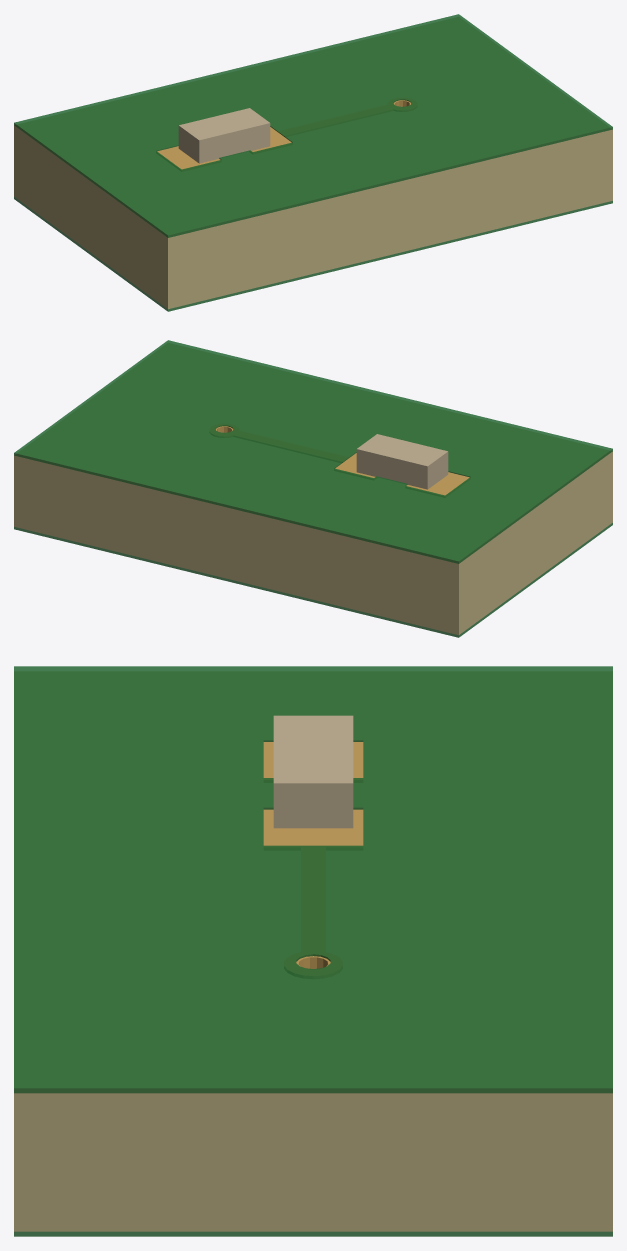
File: user-models.glb
The picture shows the model from 3 angles, top to bottom: view 1: azimuth 30°, elevation 25°; view 2: azimuth 150°, elevation 25°; view 3: azimuth 270°, elevation 25°; orthographic projection. The views are drawn at different scales.
Visible parts, largest first — view 1: layer/@soldermask-top, layer/@core, r0603, layer/@soldermask-bottom, layer/TOP; view 2: layer/@soldermask-top, layer/@core, r0603, layer/@soldermask-bottom, layer/TOP; view 3: layer/@soldermask-top, layer/@core, r0603, layer/TOP, layer/@soldermask-bottom.
Part boxes in pixels (x1,y1,x2,y2): layer/@soldermask-top: (14, 14, 612, 237); layer/@core: (14, 18, 612, 309); r0603: (178, 108, 270, 163); layer/@soldermask-bottom: (14, 197, 612, 311); layer/TOP: (157, 98, 415, 170); layer/@soldermask-top: (14, 340, 612, 563); layer/@core: (14, 344, 612, 635); r0603: (356, 434, 448, 489); layer/@soldermask-bottom: (14, 523, 612, 637); layer/TOP: (210, 424, 469, 496); layer/@soldermask-top: (14, 666, 612, 1093); layer/@core: (14, 672, 612, 1231); r0603: (273, 715, 353, 828); layer/TOP: (263, 742, 363, 978); layer/@soldermask-bottom: (14, 1231, 612, 1236).
Bounding box in the file's own units: 0.01 × 0.00212 × 0.006.
